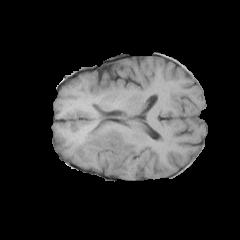glioma: (73, 124, 137, 172)
